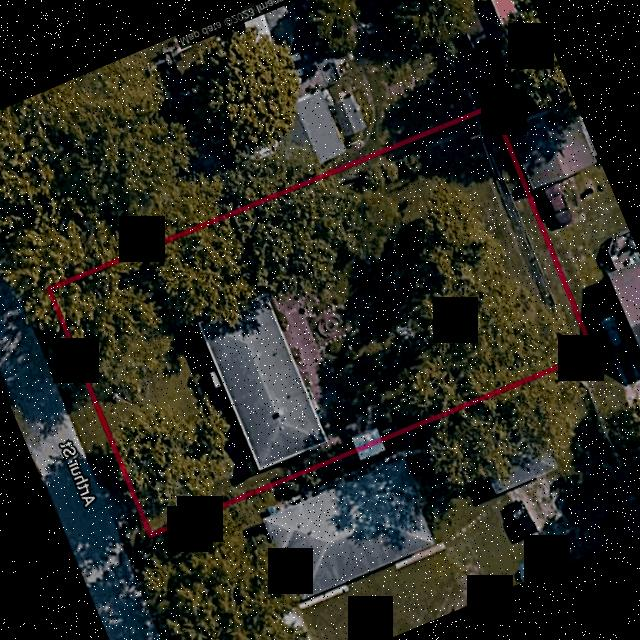Driveway: (271, 295, 321, 409)
House: (198, 294, 325, 468)
Other: (309, 301, 350, 347), (351, 427, 379, 448), (208, 370, 220, 388)
